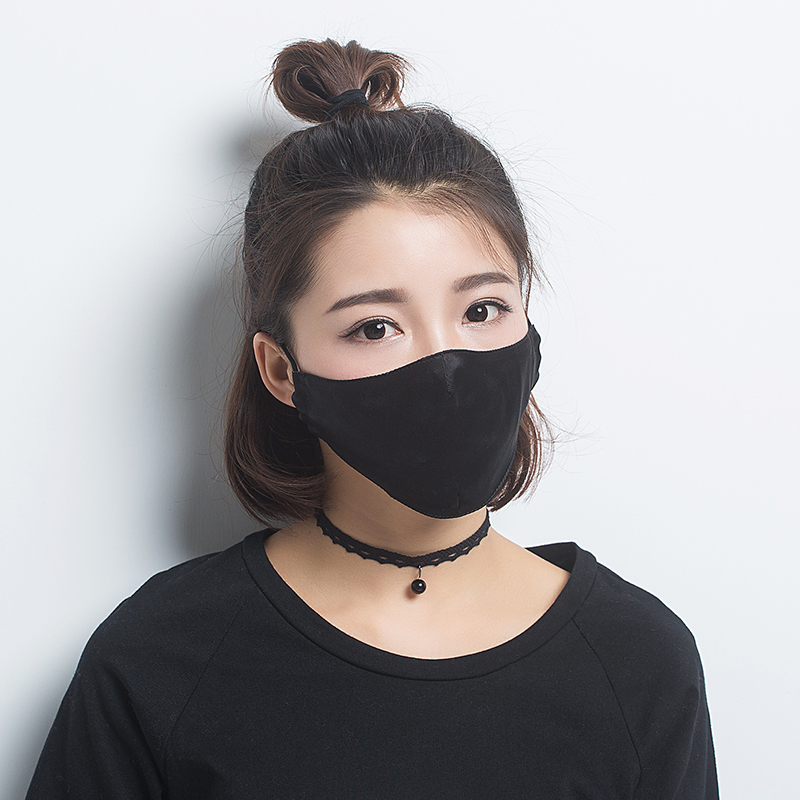face_mask: (293, 192, 528, 493)
